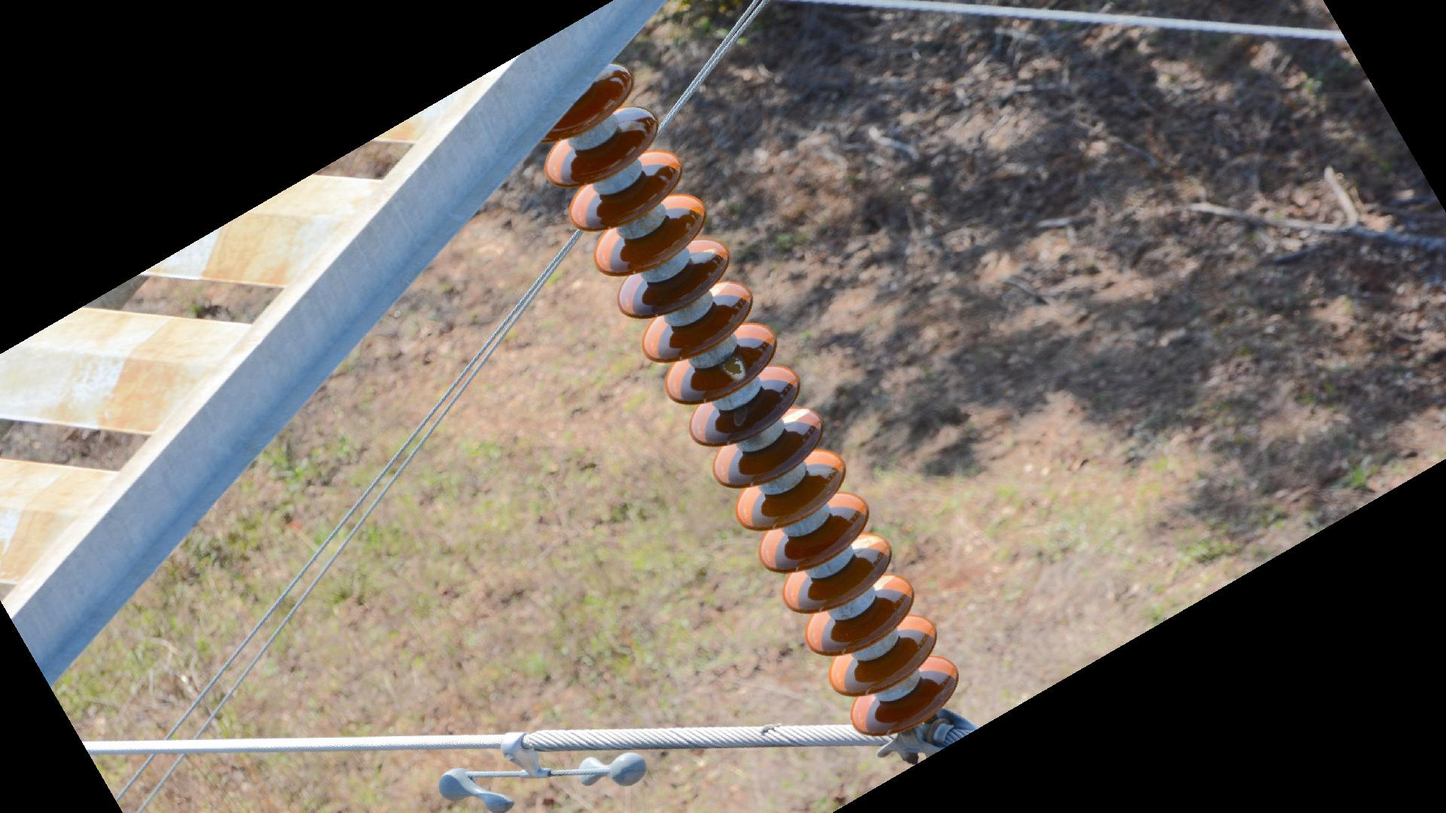insulator: (535, 56, 963, 741)
insulator_flashover: (720, 355, 749, 384), (850, 531, 883, 555), (781, 406, 812, 425)
